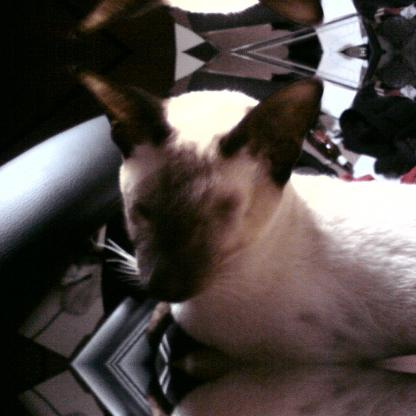Cat: (67, 62, 415, 362)
